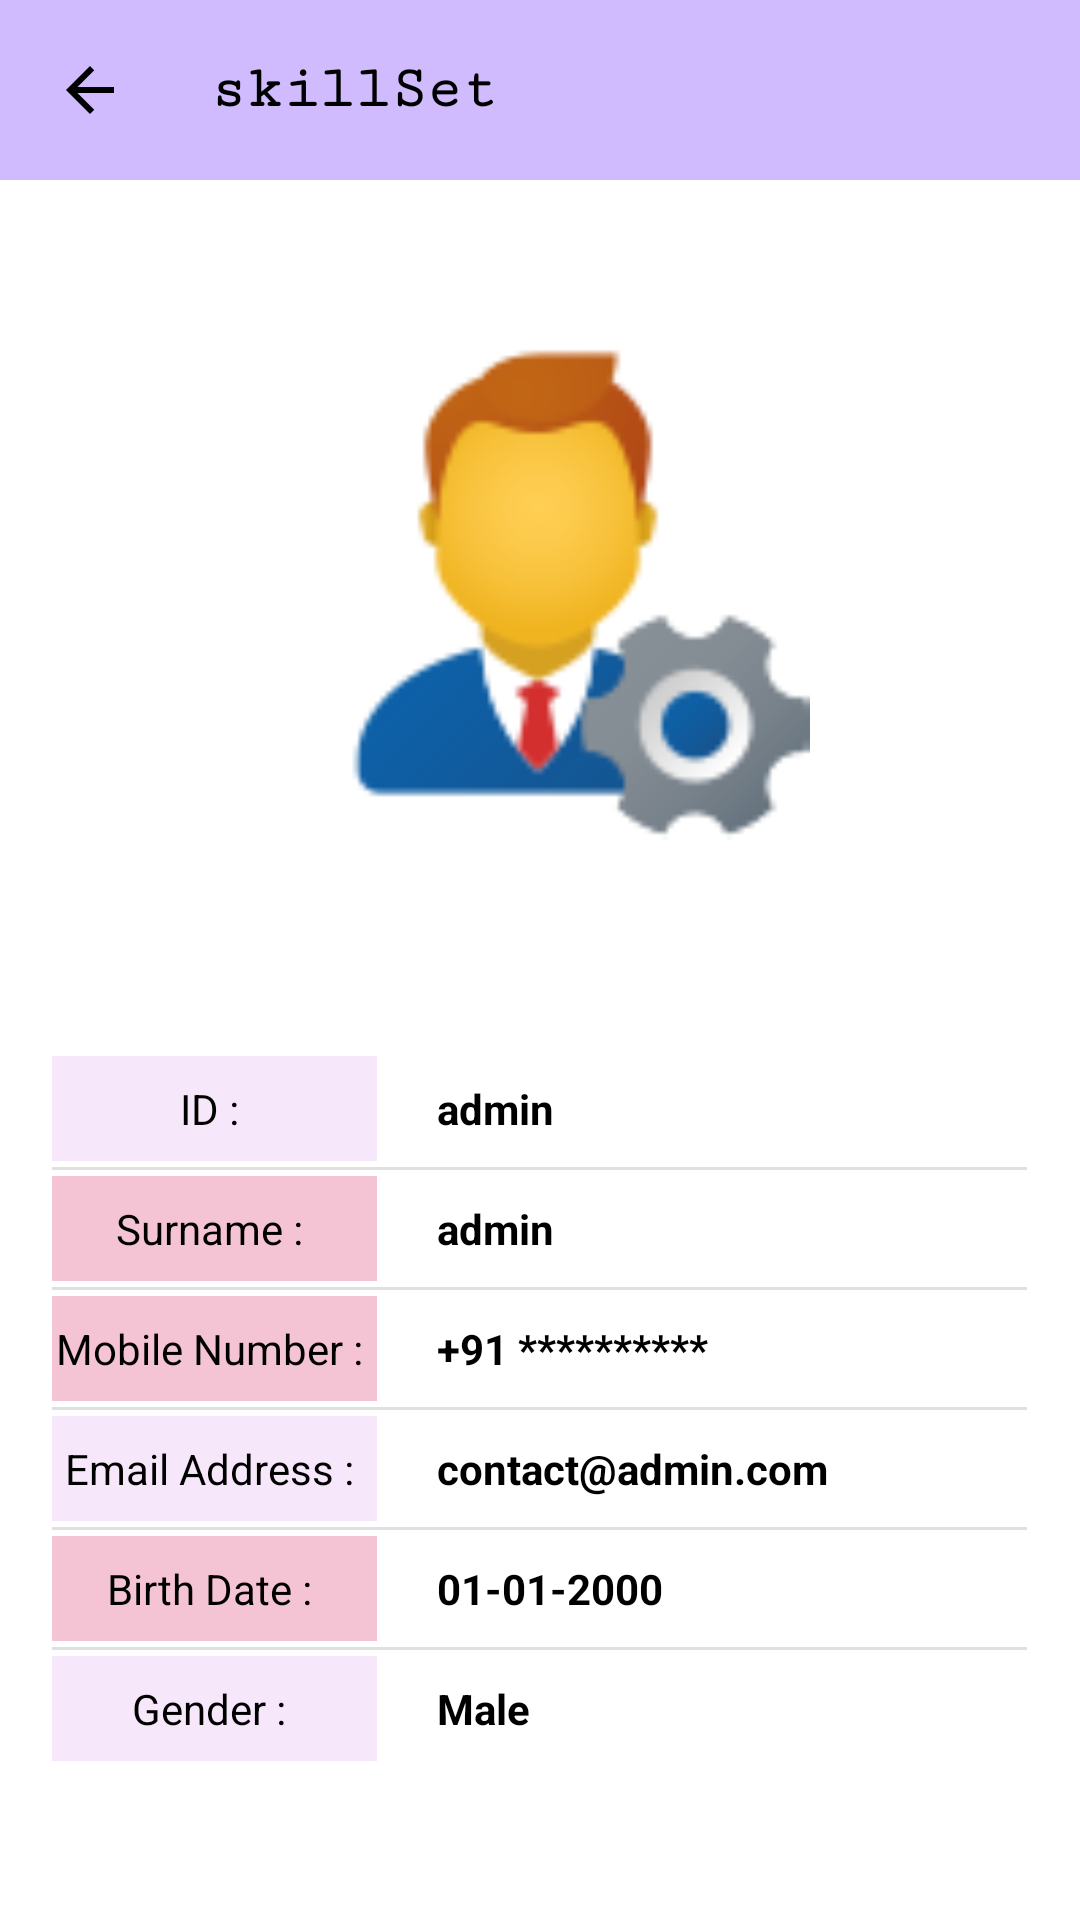

Icons on this 1080px x 1920px Android screen, each with the point to tap as [x,y]:
file back: [90,90]
